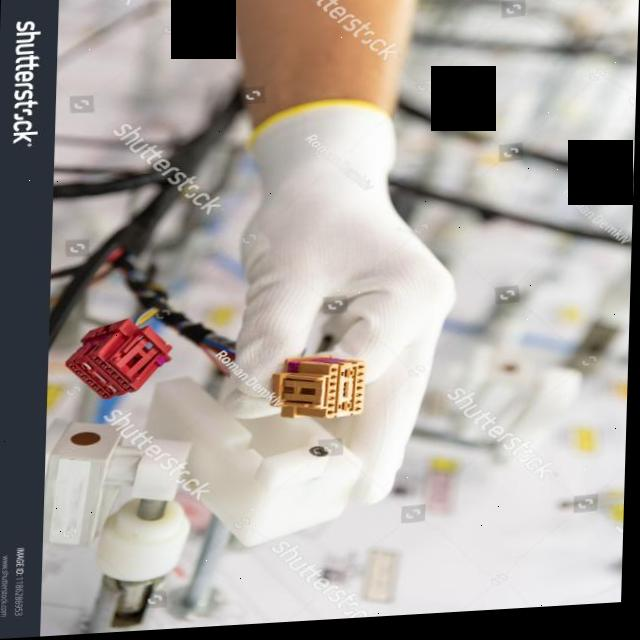cable: (52, 91, 244, 352)
connector: (67, 321, 173, 400), (274, 361, 368, 422)
